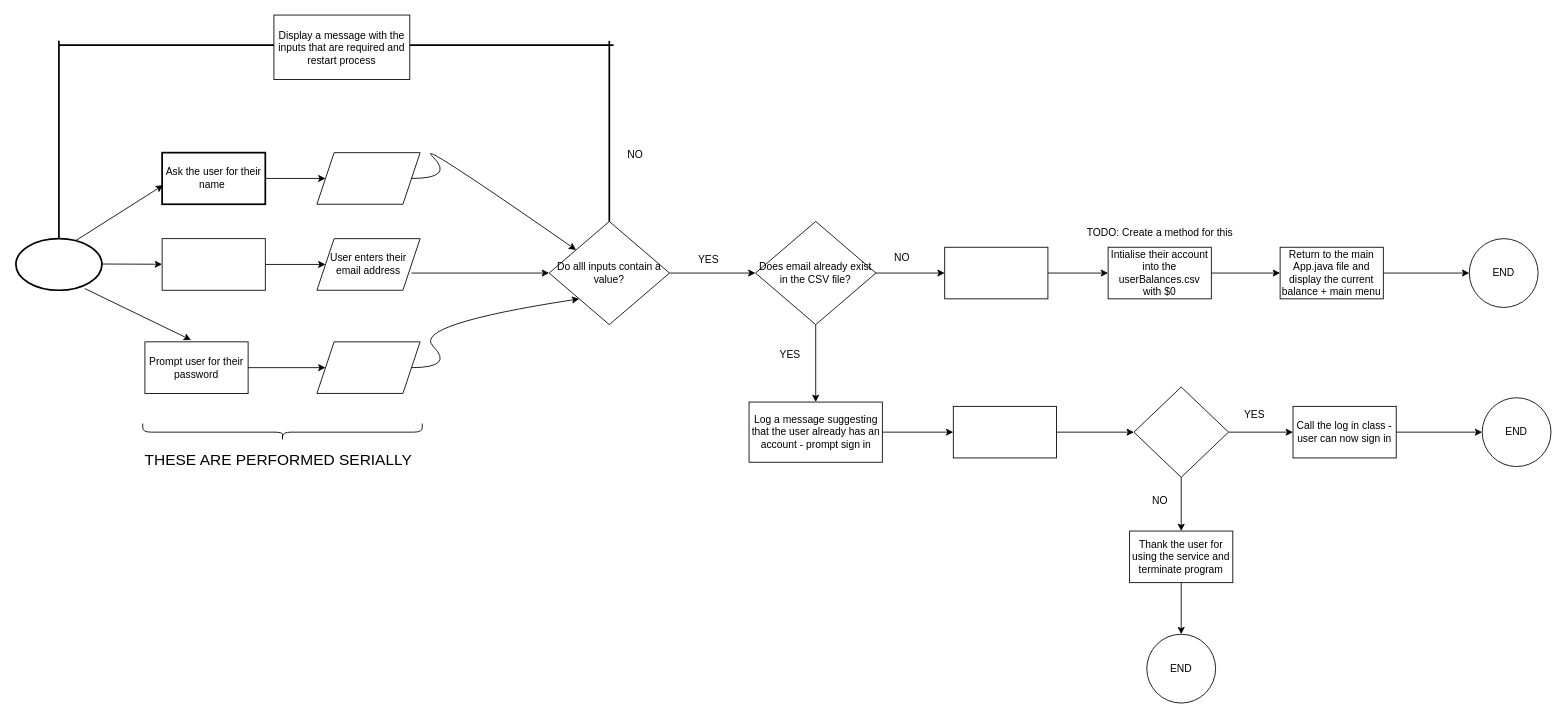
This 1566x718 diagram has some shape labels left out. The box of each missing label's shape, as (x1, y1, x2, y2) in pixels:
Add all of the credentials into the userCredentials.csv file: (944, 246, 1048, 299)
Display sign in option: (952, 405, 1057, 458)
Does user want to sign in?: (1133, 386, 1229, 477)
Prompt user for their email: (161, 238, 265, 290)
Start: (15, 237, 102, 291)
User enters their name: (316, 152, 420, 204)
User enters their password: (316, 341, 420, 393)
